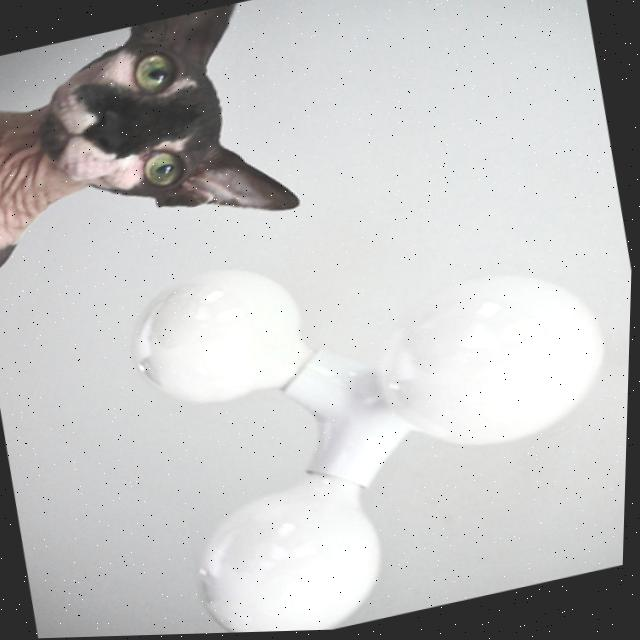Sphynx: (0, 0, 325, 301)
